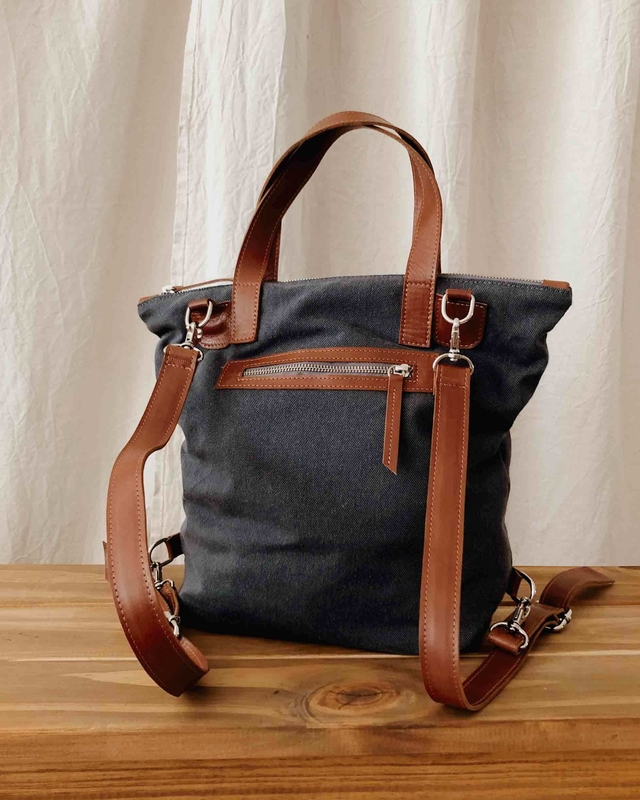cartera: (91, 102, 609, 724)
lona: (139, 292, 529, 641)
